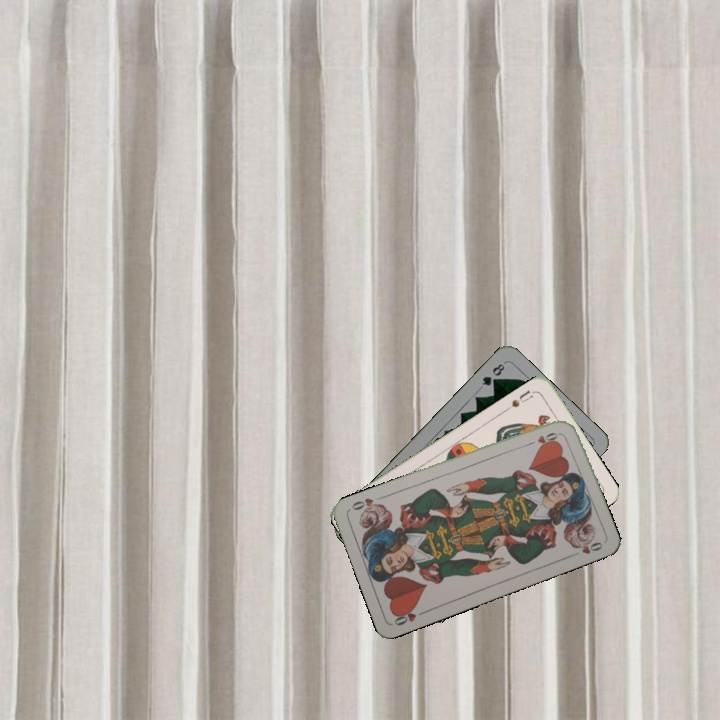G8: (478, 359, 507, 389)
HO: (390, 604, 429, 628), (523, 428, 563, 448)
SU: (502, 386, 538, 414)
